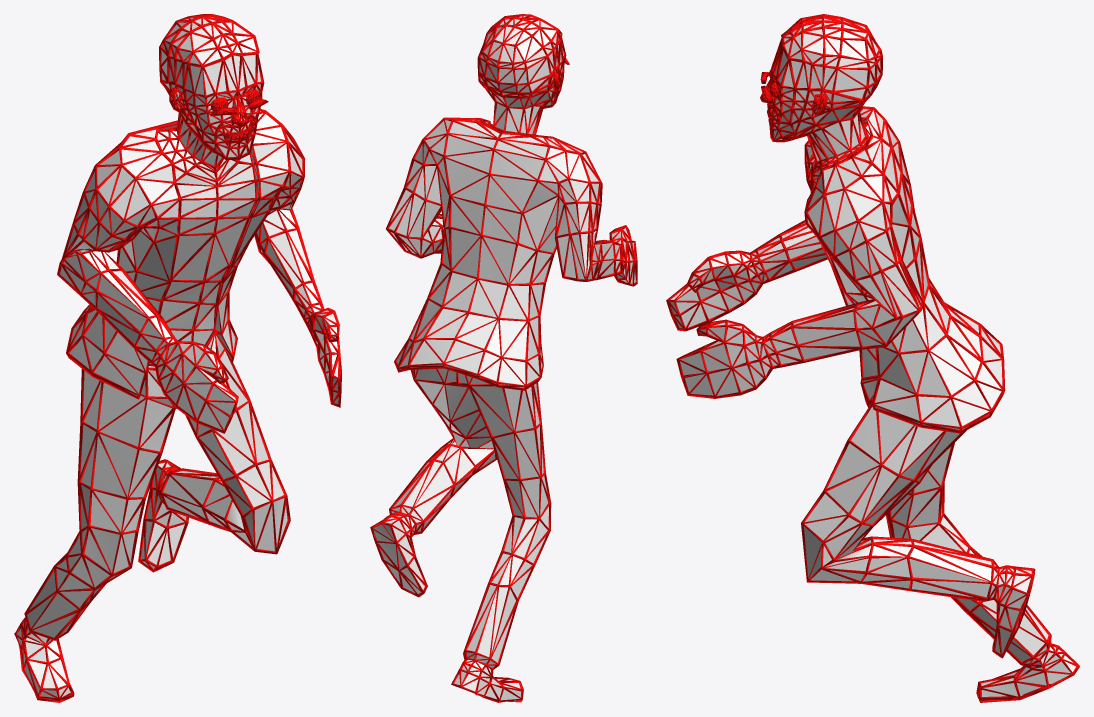
Rendered from elegantRun_000012.obj.
The picture shows the model from 3 angles, left to right: view 1: azimuth 30°, elevation 25°; view 2: azimuth 150°, elevation 25°; view 3: azimuth 270°, elevation 25°; orthographic projection. The views are drawn at different scales.
Parts seen in each view (by area): view 1: BaseHuman_Cylinder.002; view 2: BaseHuman_Cylinder.002; view 3: BaseHuman_Cylinder.002.
Boxes of the visible parts, x1,y1,x2,y2 form: BaseHuman_Cylinder.002: [14, 14, 341, 702]; BaseHuman_Cylinder.002: [370, 14, 637, 702]; BaseHuman_Cylinder.002: [666, 14, 1079, 702].
Size of the model in its own units: 1.57 by 4.64 by 2.44.
